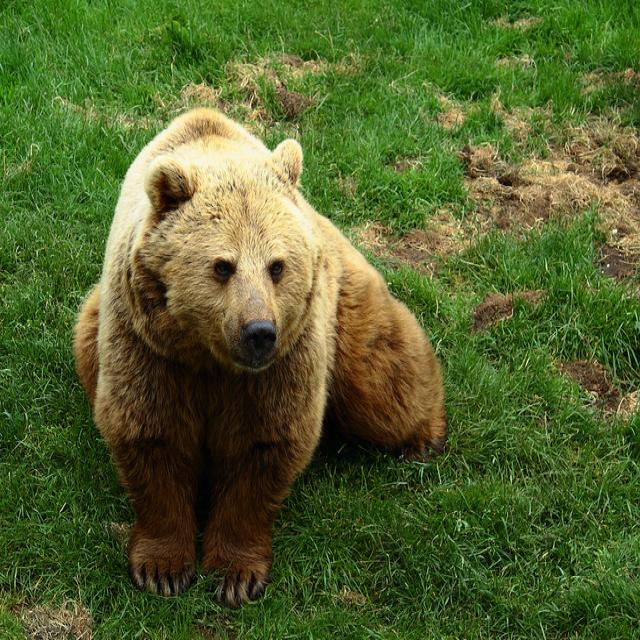Bear: (69, 99, 466, 598)
